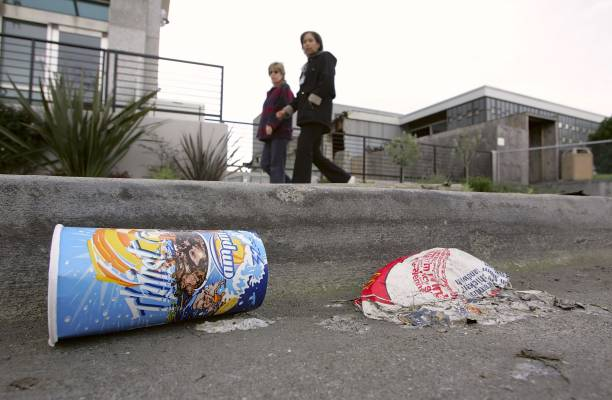paper: (16, 197, 279, 364), (341, 208, 557, 349)
